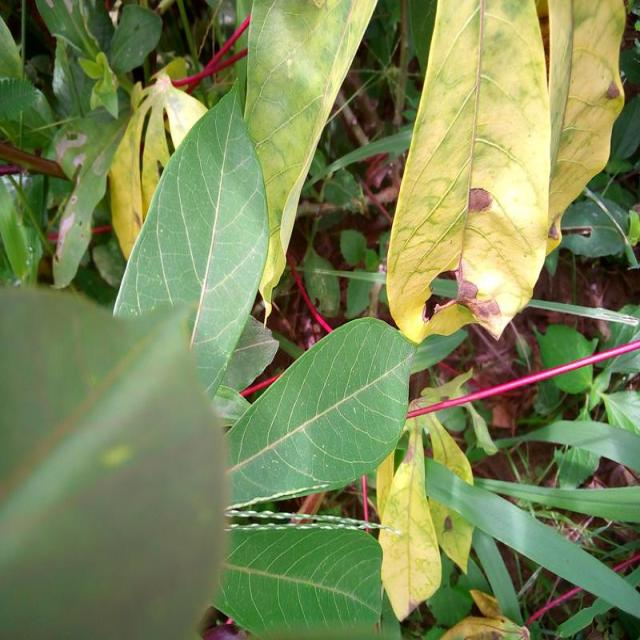cassava leaf: (385, 0, 552, 345), (112, 78, 270, 400), (242, 0, 376, 322), (222, 315, 416, 510)
